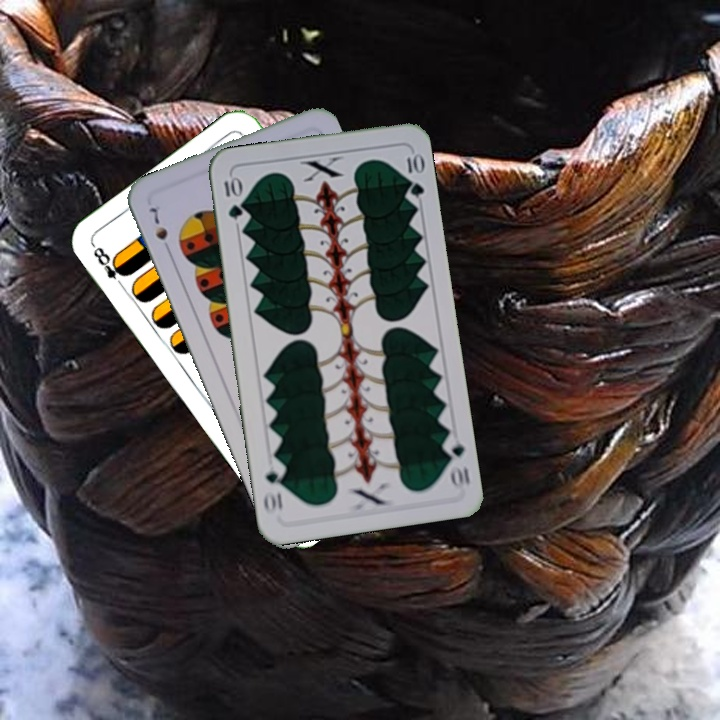E8: (88, 241, 131, 292)
G10: (439, 432, 473, 492), (220, 173, 245, 222)
S7: (146, 203, 174, 257)
